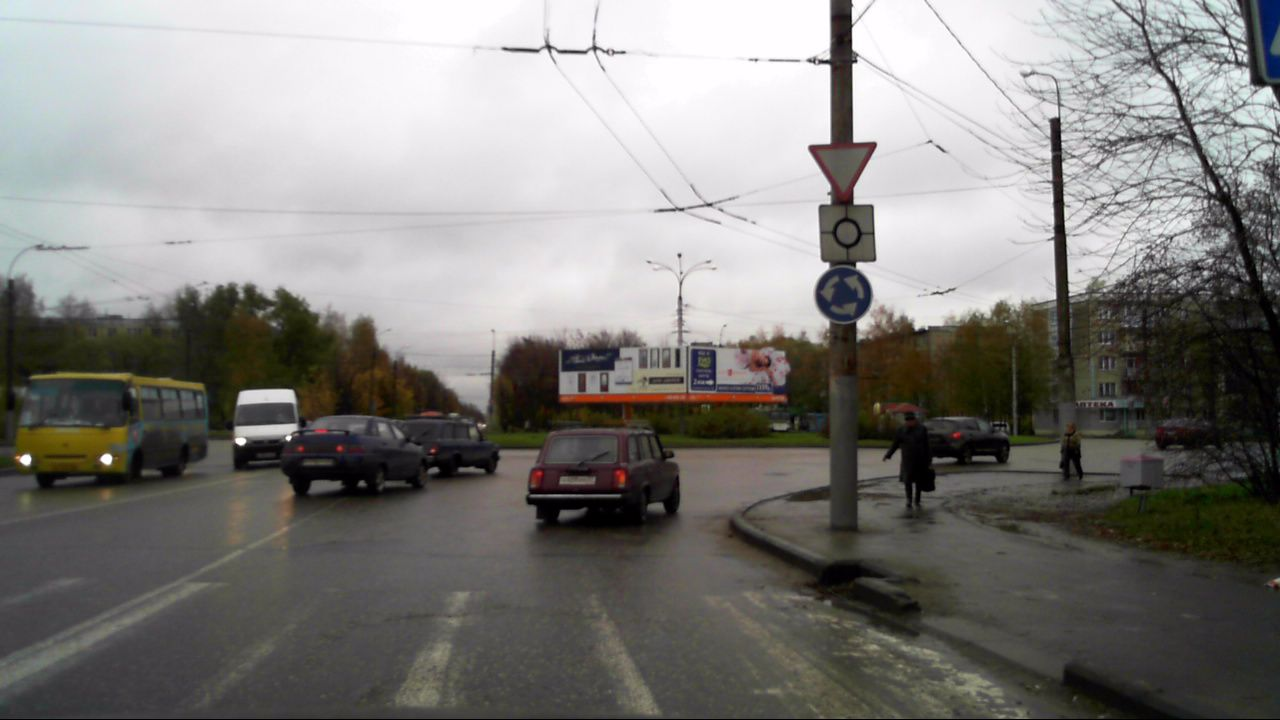Round-About: (815, 264, 876, 326)
